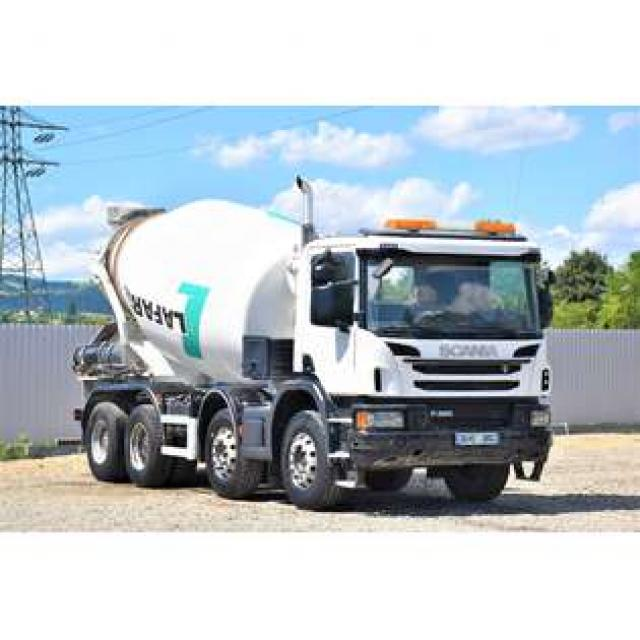Mixer Truck: (54, 198, 558, 510)
